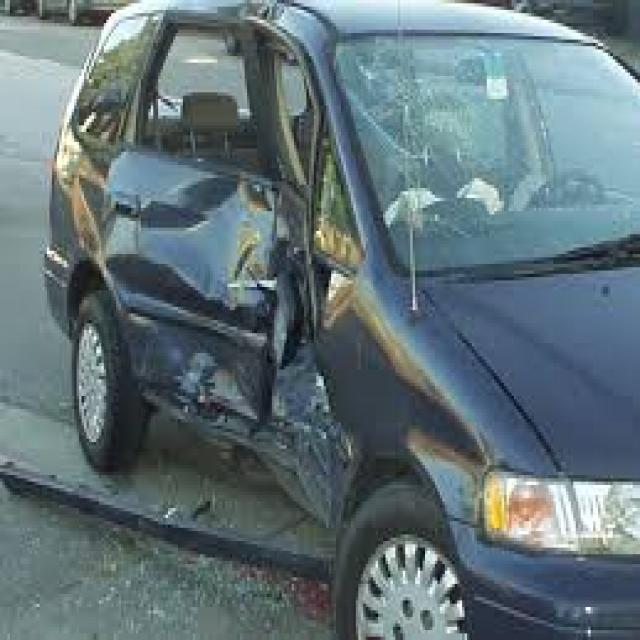severe: (109, 11, 459, 523)
